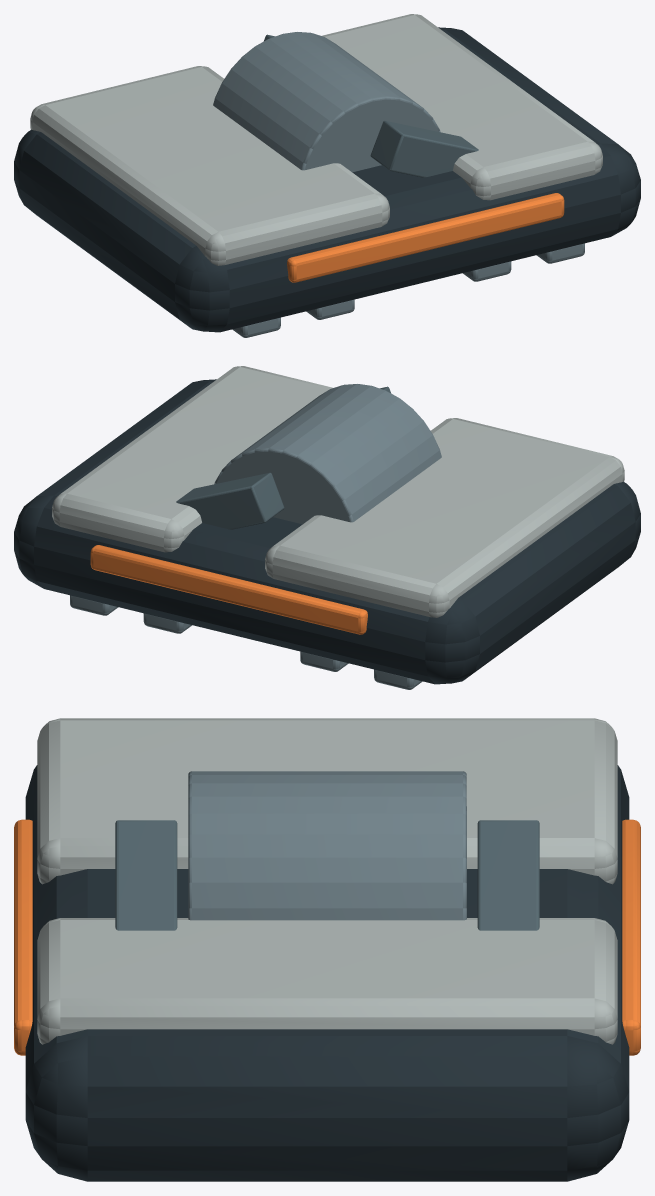
Rendered from SM_Mech_GearFoot.fbx.
3 renders of one model, top to bottom at view 1: azimuth 30°, elevation 25°; view 2: azimuth 150°, elevation 25°; view 3: azimuth 270°, elevation 25°, orthographic. The views are drawn at different scales.
Parts seen in each view (by area): view 1: SM_Mech_GearFoot; view 2: SM_Mech_GearFoot; view 3: SM_Mech_GearFoot.
Boxes of the visible parts, x1,y1,x2,y2 form: SM_Mech_GearFoot: [14, 14, 640, 337]; SM_Mech_GearFoot: [14, 366, 640, 689]; SM_Mech_GearFoot: [14, 718, 640, 1181].
Size of the model in its own units: 106 by 81 by 37.
